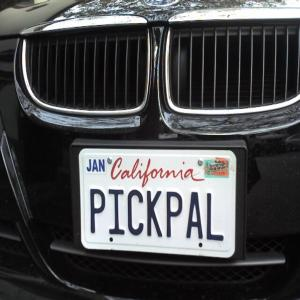Vehicle-registration-plate: (79, 149, 236, 261)
